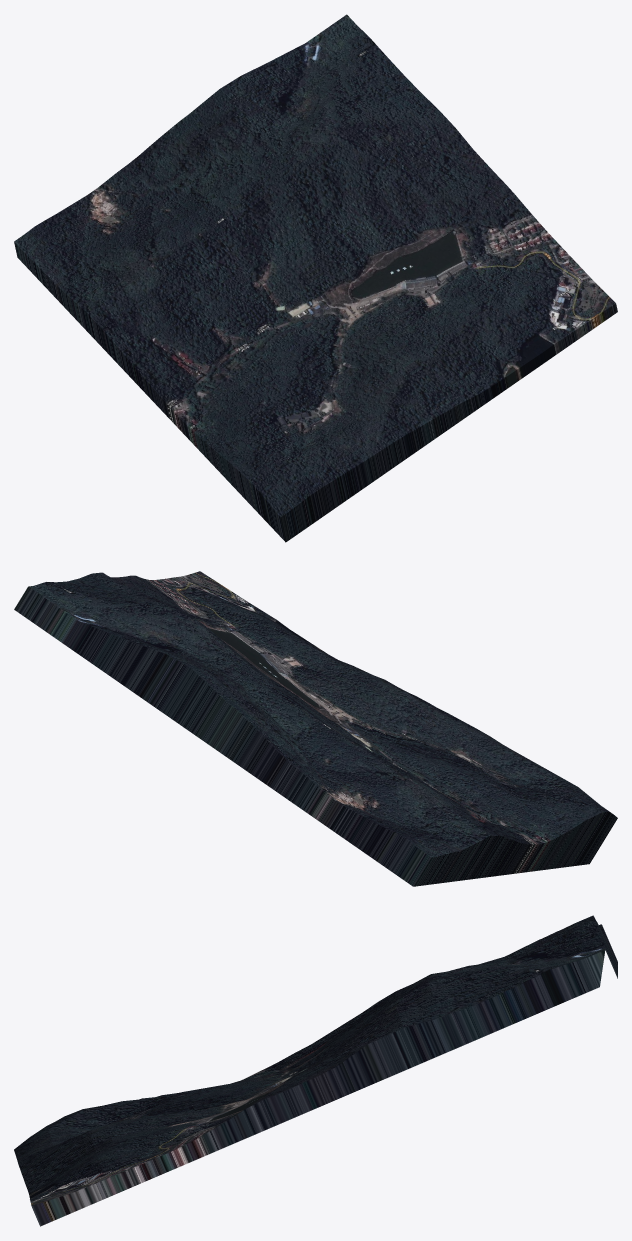
3 renders of one model, top to bottom at view 1: azimuth 30°, elevation 25°; view 2: azimuth 150°, elevation 25°; view 3: azimuth 270°, elevation 25°, orthographic. The views are drawn at different scales.
Parts seen in each view (by area): view 1: 1_0_7; view 2: 1_0_7; view 3: 1_0_7.
Boxes of the visible parts, x1,y1,x2,y2 form: 1_0_7: [14, 14, 617, 542]; 1_0_7: [14, 571, 617, 886]; 1_0_7: [14, 915, 617, 1226].
Size of the model in its own units: 1251 by 937 by 1169.
1 material, 1 textured.
